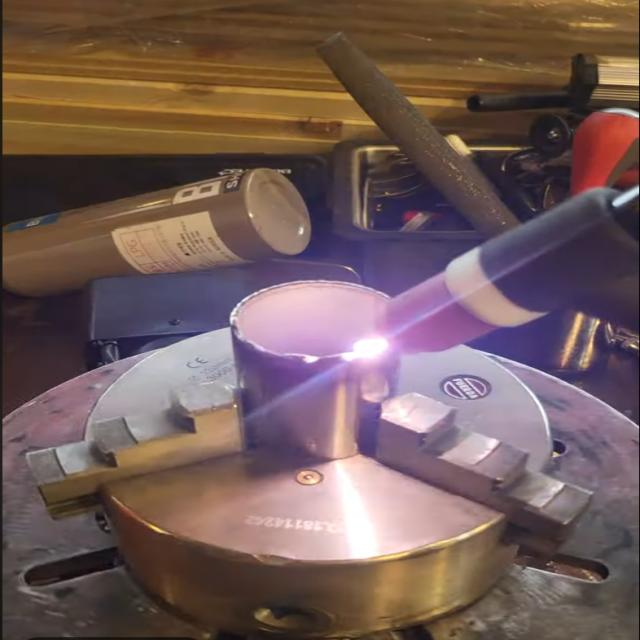welding: (348, 334, 390, 362)
